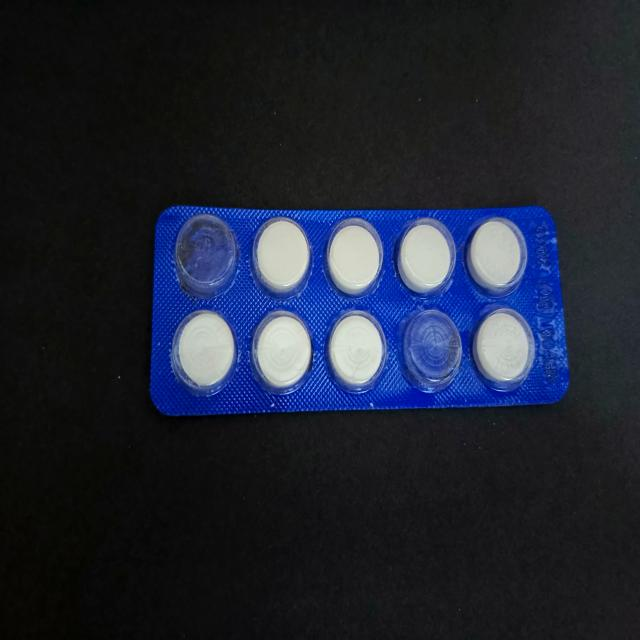defect: (167, 208, 245, 304), (396, 304, 463, 396)
